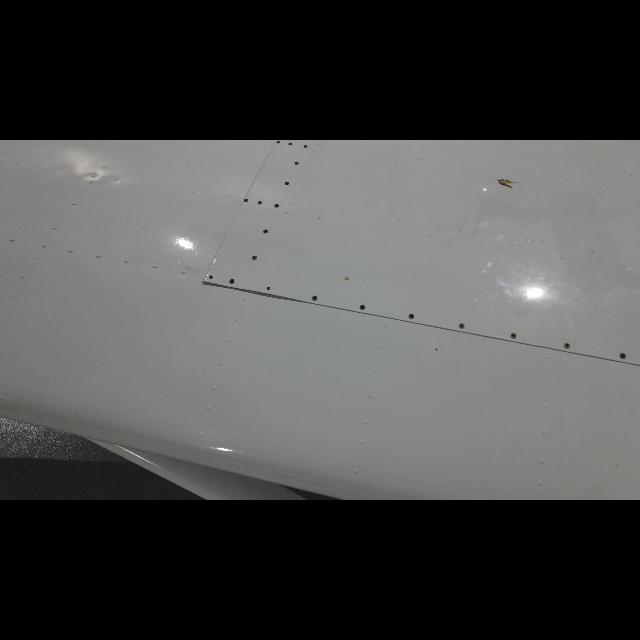Missing Fastener: (264, 283, 274, 295)
dent: (236, 285, 298, 303)
